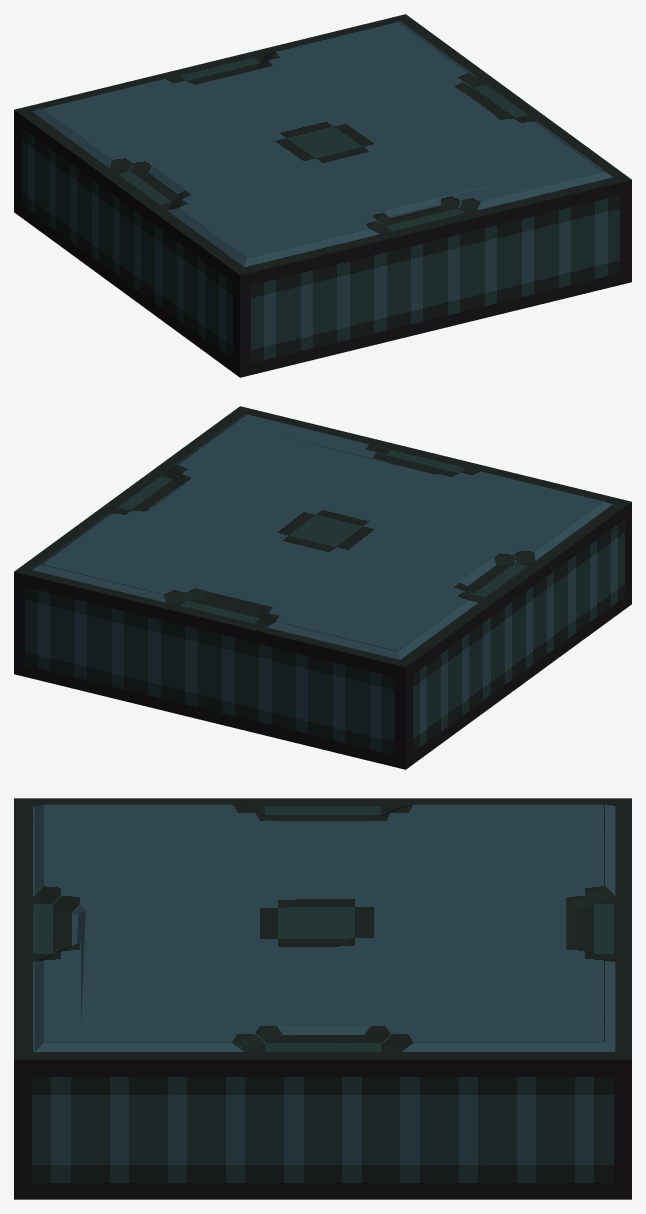
The model's file is Floor_01.glb.
3 views of the same model, one above another, from view 1: azimuth 30°, elevation 25°; view 2: azimuth 150°, elevation 25°; view 3: azimuth 270°, elevation 25° (orthographic). The views are drawn at different scales.
Visible parts, largest first — view 1: Floor_01; view 2: Floor_01; view 3: Floor_01.
Part boxes in pixels (x1,y1,x2,y2): Floor_01: (14, 14, 631, 377); Floor_01: (14, 406, 631, 769); Floor_01: (14, 798, 631, 1199).
Bounding box in the file's own units: 1 × 0.26 × 1.
Materials: 1 (1 with a texture image).
